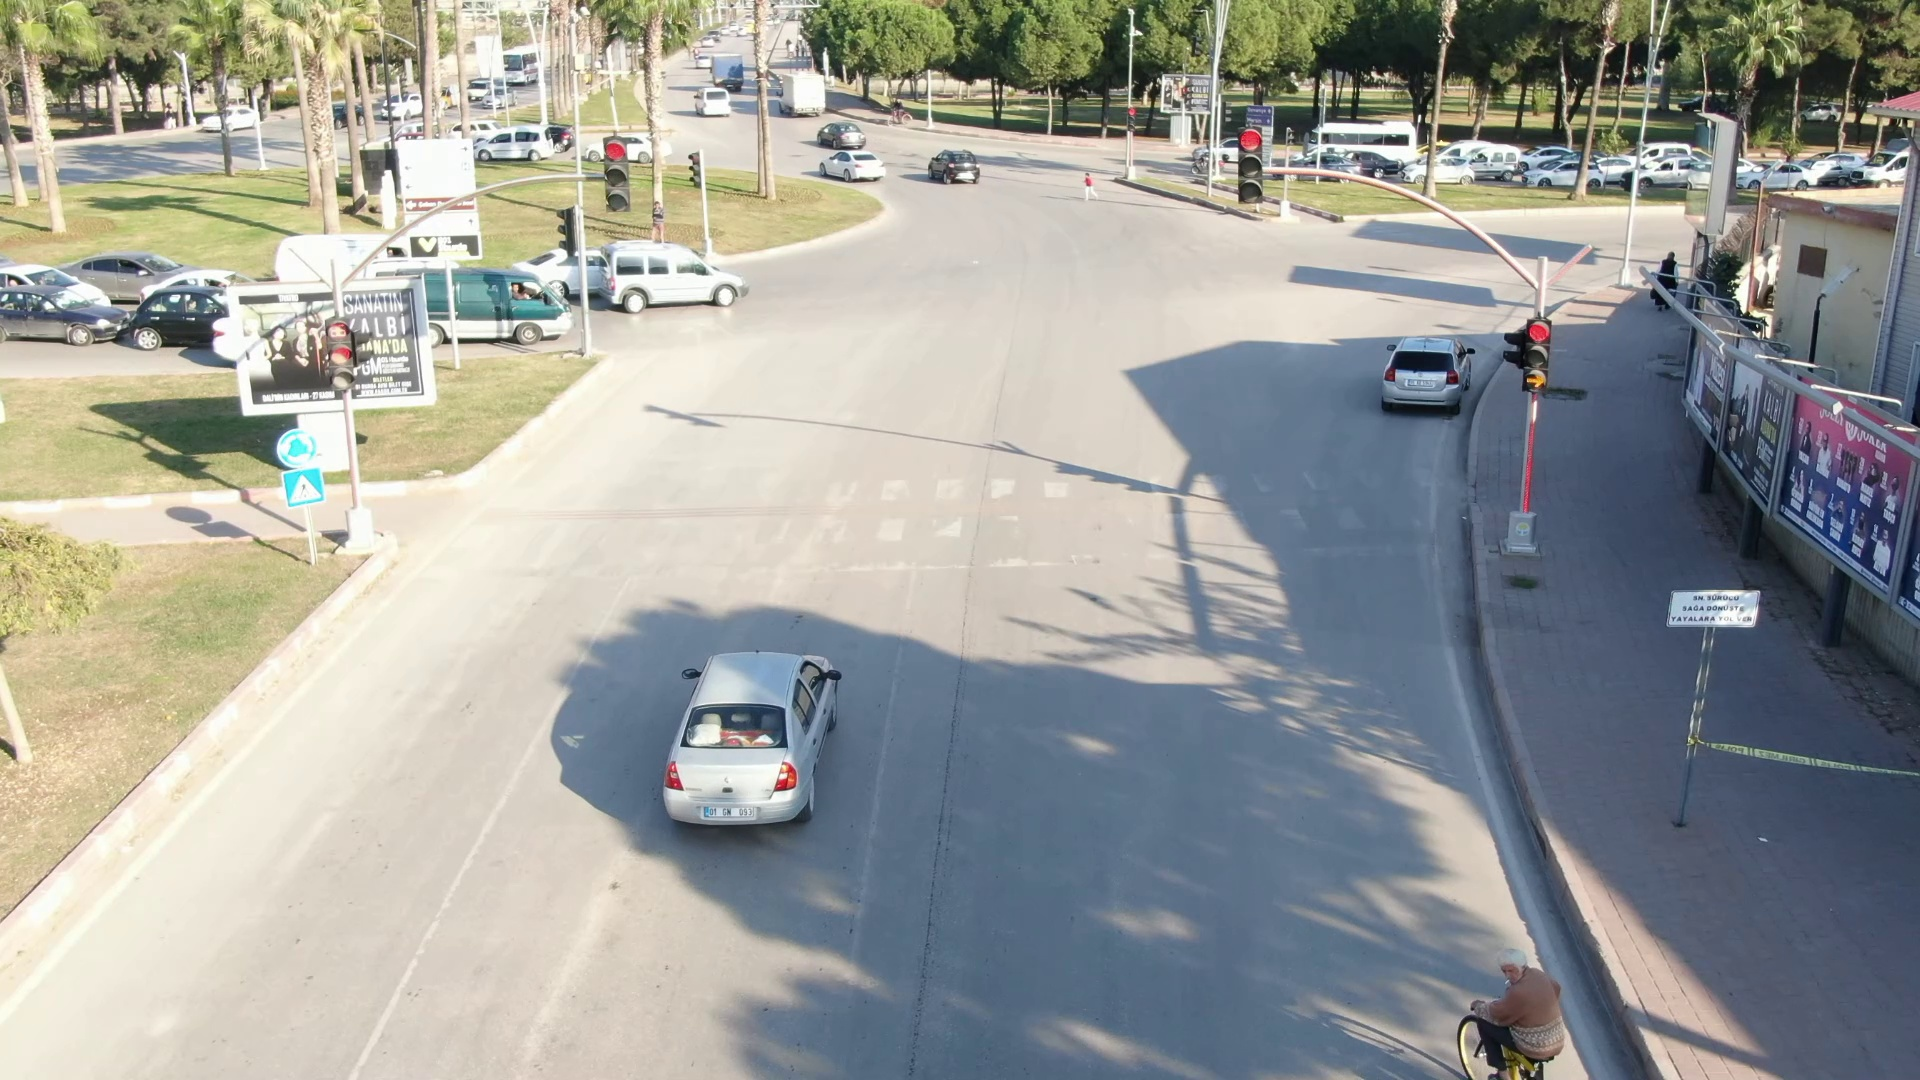car: (615, 591, 893, 862), (1350, 315, 1487, 431), (595, 232, 760, 324), (426, 265, 588, 353), (812, 138, 895, 189), (923, 140, 992, 199)
